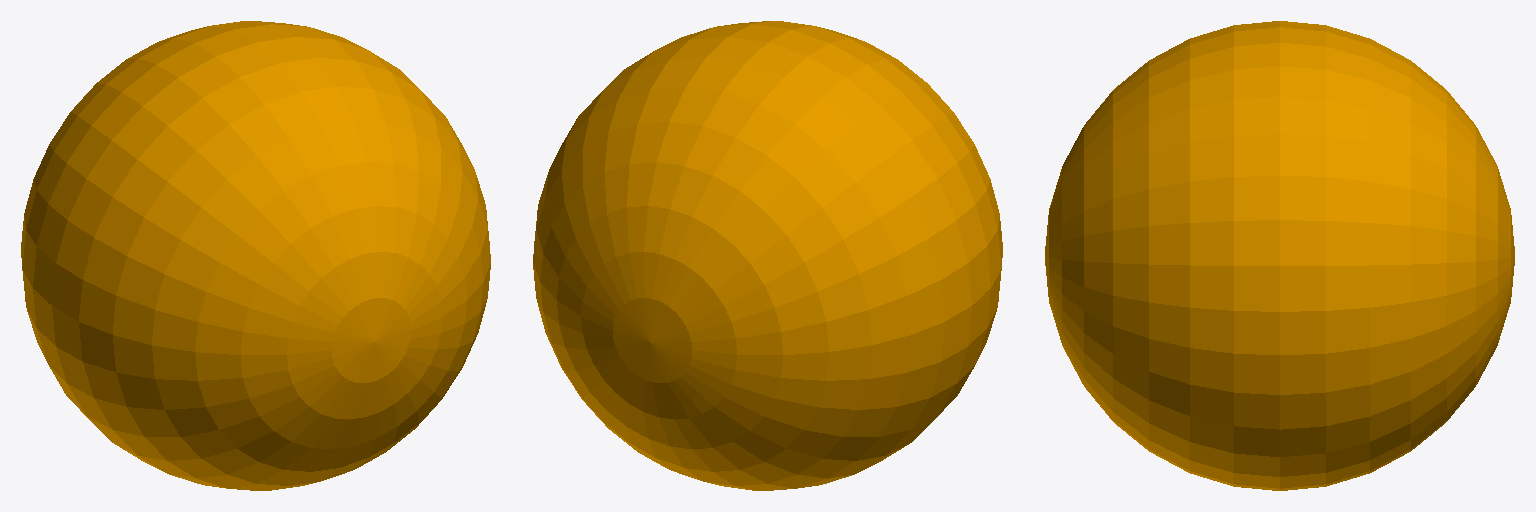
URDF robot description (panda):
<?xml version='1.0' encoding='utf-8'?>
<robot name="panda">

<!--     <link name="base_link">
      <inertial>
        <origin xyz="0 0 0" rpy="0 0 0" />
        <mass value="0.1" />
        <inertia ixx="0.001" iyy="0..01" izz="0..01" ixy="0" ixz="0" iyz="0" />
      </inertial>
    </link> -->

    <link name="link0">
      <inertial>
        <origin xyz="0 0 0.05" rpy="0 0 0" />
        <mass value="4" />
        <inertia ixx="0.4" iyy="0.4" izz="0.4" ixy="0" ixz="0" iyz="0" />
      </inertial>
      <visual>
        <geometry>
          <mesh filename="../../../Model/meshes/visual/link0.obj"/>
        </geometry>
      </visual>
<!--       <collision>
        <geometry>
          <mesh filename="../../../Model/meshes/collision/link0.obj"/>
        </geometry>
      </collision> -->
    </link>
    <link name="link1">
      <inertial>
        <origin xyz="0 0 -0.07" rpy="0 -0 0" />
        <mass value="3" />
        <inertia ixx="0.3" iyy="0.3" izz="0.3" ixy="0" ixz="0" iyz="0" />
      </inertial>
      <visual>
        <geometry>
          <mesh filename="../../../Model/meshes/visual/link1.obj"/>
        </geometry>
      </visual>
      <!-- <collision>
        <geometry>
          <mesh filename="../../../Model/meshes/collision/link1.obj"/>
        </geometry>
      </collision> -->
    </link>
    <link name="link2">
      <inertial>
        <origin xyz="0 -0.1 0" rpy="0 -0 0" />
        <mass value="3" />
        <inertia ixx="0.3" iyy="0.3" izz="0.3" ixy="0" ixz="0" iyz="0" />
      </inertial>
      <visual>
        <geometry>
          <mesh filename="../../../Model/meshes/visual/link2.obj"/>
        </geometry>
      </visual>
      <!-- <collision>
        <geometry>
          <mesh filename="../../../Model/meshes/collision/link2.obj"/>
        </geometry>
      </collision> -->
    </link>
    <link name="link3">
      <inertial>
        <origin xyz="0.04 0 -0.05" rpy="0 -0 0" />
        <mass value="2" />
        <inertia ixx="0.2" iyy="0.2" izz="0.2" ixy="0" ixz="0" iyz="0" />
      </inertial>
      <visual>
        <geometry>
          <mesh filename="../../../Model/meshes/visual/link3.obj"/>
        </geometry>
      </visual>
      <!-- <collision>
        <geometry>
          <mesh filename="../../../Model/meshes/collision/link3.obj"/>
        </geometry>
      </collision> -->
    </link>
    <link name="link4">
      <inertial>
        <origin xyz="-0.04 0.05 0" rpy="0 -0 0" />
        <mass value="2" />
        <inertia ixx="0.2" iyy="0.2" izz="0.2" ixy="0" ixz="0" iyz="0" />
      </inertial>
      <visual>
        <geometry>
          <mesh filename="../../../Model/meshes/visual/link4.obj"/>
        </geometry>
      </visual>
<!--       <visual>
        <origin xyz="-0.085 0.065 0" rpy="0 0 0" />
        <geometry>
          <sphere radius="0.05"/>
        </geometry>
        <material name="material_green">
          <color rgba="0.3 0.7 0.3 1.0" />
        </material>
      </visual>   -->  
      <collision>
        <origin xyz="-0.085 0.065 0" rpy="0 0 0" />
        <geometry>
          <sphere radius="0.05"/>
        </geometry>
      </collision>         
<!--       <collision>
        <geometry>
          <mesh filename="../../../Model/meshes/collision/link4.obj"/>
        </geometry>
      </collision> -->
    </link>
    <link name="link5">
      <inertial>
        <origin xyz="0 0 -0.15" rpy="0 -0 0" />
        <mass value="2" />
        <inertia ixx="0.2" iyy="0.2" izz="0.2" ixy="0" ixz="0" iyz="0" />
      </inertial>
      <visual>
        <geometry>
          <mesh filename="../../../Model/meshes/visual/link5.obj"/>
        </geometry>
      </visual>
<!--       <collision>
        <geometry>
          <mesh filename="../../../Model/meshes/collision/link5.obj"/>
        </geometry>
      </collision> -->
    </link>
    <link name="link6">
      <inertial>
        <origin xyz="0.06 0 0" rpy="0 -0 0" />
        <mass value="1.5" />
        <inertia ixx="0.1" iyy="0.1" izz="0.1" ixy="0" ixz="0" iyz="0" />
      </inertial>
      <visual>
        <geometry>
          <mesh filename="../../../Model/meshes/visual/link6.obj"/>
        </geometry>
      </visual>
      <!-- <collision>
        <geometry>
          <mesh filename="../../../Model/meshes/collision/link6.obj"/>
        </geometry>
      </collision> -->
    </link>
    <link name="link7">
      <inertial>
        <origin xyz="0 0 0.17" rpy="0 -0 0" />
        <mass value="1.8" />
        <inertia ixx="0.09" iyy="0.05" izz="0.07" ixy="0" ixz="0" iyz="0" />
      </inertial>
      <visual>
        <geometry>
          <mesh filename="../../../Model/meshes/visual/link7.obj"/>
        </geometry>
      </visual>
      <!-- <collision>
        <geometry>
          <mesh filename="../../../Model/meshes/collision/link7.obj"/>
        </geometry>
      </collision> -->
    </link>
    <link name="end-effector">
      <inertial>
        <origin xyz="0 0 0" rpy="0 -0 0" />
        <mass value="0.2" />
        <inertia ixx="0.01" iyy="0.01" izz="0.01" ixy="0" ixz="0" iyz="0" />
      </inertial>
      <visual>
        <geometry>
          <sphere radius="0.04" />
        </geometry>
      </visual>
      <collision>
        <geometry>
          <sphere radius="0.04" />
        </geometry>
      </collision>
    </link>

<!--      <joint name="base_joint" type="prismatic">
      <safety_controller k_position="100.0" k_velocity="40.0" soft_lower_limit="-2.8973" soft_upper_limit="2.8973"/>
      <origin xyz="0.0 0.0 0.8" rpy="1.57079632679 0 1.57079632679" />
      <parent link="base_link"/>
      <child link="link0"/>
      <axis xyz="0 1 0"/>
      <limit effort="87" lower="-2.8973" upper="2.8973" velocity="2.1750"/>
    </joint>   --> 
    <joint name="joint1" type="revolute">
      <safety_controller k_position="100.0" k_velocity="40.0" soft_lower_limit="-2.8973" soft_upper_limit="2.8973"/>
      <!-- <origin rpy="0 0 0" xyz="0 0 0.333"/> -->
      <origin rpy="1.57079632679 0 1.57079632679" xyz="0.333 0 0.8"/>
      <parent link="link0"/>
      <child link="link1"/>
      <axis xyz="0 0 1"/>
      <calibration falling="45.0" />
      <limit effort="87" lower="-2.8973" upper="2.8973" velocity="2.1750"/>
    </joint>
    <joint name="joint2" type="revolute">
      <safety_controller k_position="100.0" k_velocity="40.0" soft_lower_limit="-1.7628" soft_upper_limit="1.7628"/>
      <origin rpy="-1.57079632679 0 0" xyz="0 0 0"/>
      <parent link="link1"/>
      <child link="link2"/>
      <axis xyz="0 0 1"/>
      <calibration falling="-45.0" />
      <limit effort="87" lower="-1.7628" upper="1.7628" velocity="2.1750"/>
    </joint>
    <joint name="joint3" type="revolute">
      <safety_controller k_position="100.0" k_velocity="40.0" soft_lower_limit="-2.8973" soft_upper_limit="2.8973"/>
      <origin rpy="1.57079632679 0 0" xyz="0 -0.316 0"/>
      <parent link="link2"/>
      <child link="link3"/>
      <axis xyz="0 0 1"/>
      <limit effort="87" lower="-2.8973" upper="2.8973" velocity="2.1750"/>
    </joint>
    <joint name="joint4" type="revolute">
      <safety_controller k_position="100.0" k_velocity="40.0" soft_lower_limit="-3.0718" soft_upper_limit="-0.0698"/>
      <origin rpy="1.57079632679 0 0" xyz="0.0825 0 0"/>
      <parent link="link3"/>
      <child link="link4"/>
      <axis xyz="0 0 1"/>
      <calibration falling="-70.0" />
      <limit effort="87" lower="-3.0718" upper="-0.0698" velocity="2.1750"/>
    </joint>
    <joint name="joint5" type="revolute">
      <safety_controller k_position="100.0" k_velocity="40.0" soft_lower_limit="-2.8973" soft_upper_limit="2.8973"/>
      <origin rpy="-1.57079632679 0 0" xyz="-0.0825 0.384 0"/>
      <parent link="link4"/>
      <child link="link5"/>
      <axis xyz="0 0 1"/>
      <calibration falling="-105.0" />
      <limit effort="12" lower="-2.8973" upper="2.8973" velocity="2.6100"/>
    </joint>
    <joint name="joint6" type="revolute">
      <safety_controller k_position="100.0" k_velocity="40.0" soft_lower_limit="-0.0175" soft_upper_limit="3.7525"/>
      <origin rpy="1.57079632679 0 0" xyz="0 0 0"/>
      <parent link="link5"/>
      <child link="link6"/>
      <axis xyz="0 0 1"/>
      <calibration falling="90.0" />
      <limit effort="12" lower="-0.0175" upper="3.7525" velocity="2.6100"/>
    </joint>
    <joint name="joint7" type="revolute">
      <safety_controller k_position="100.0" k_velocity="40.0" soft_lower_limit="-2.8973" soft_upper_limit="2.8973"/>
      <origin rpy="1.57079632679 0 0" xyz="0.088 0 0"/>
      <parent link="link6"/>
      <child link="link7"/>
      <axis xyz="0 0 1"/>
      <limit effort="12" lower="-2.8973" upper="2.8973" velocity="2.6100"/>
    </joint>
    <joint name="joint_ee" type="fixed">
      <!-- <safety_controller k_position="100.0" k_velocity="40.0" soft_lower_limit="-2.8973" soft_upper_limit="2.8973"/> -->
      <origin rpy="0 0 0" xyz="0 0 0.15"/>
      <parent link="link7"/>
      <child link="end-effector"/>
      <!-- <axis xyz="0 0 1"/> -->
      <!-- <limit effort="12" lower="-2.8973" upper="2.8973" velocity="2.6100"/> -->
    </joint>
</robot>

--- What the picture shows (computed from the rendered views, not written in the file) ---
The picture shows the robot from 3 angles, left to right: view 1: azimuth 30°, elevation 25°; view 2: azimuth 150°, elevation 25°; view 3: azimuth 270°, elevation 25°; orthographic projection.
Robot: panda — 9 links, 8 joints (7 revolute, 1 fixed); root link link0; default pose: joints at zero except 1 at the middle of their limits (joint4 = -1.57).
Links seen in each view (by area): view 1: end-effector; view 2: end-effector; view 3: end-effector.
Boxes of the visible links, x1,y1,x2,y2 form: end-effector: [21, 21, 490, 490]; end-effector: [533, 21, 1002, 490]; end-effector: [1045, 21, 1514, 490].
Bounding box of the posed robot: 0.08 × 0.08 × 0.08 m (x, y, z).
Geometry: only primitive shapes (box / cylinder / sphere) drawn; not drawn: 8 mesh visuals (reference in a form the renderer does not follow).